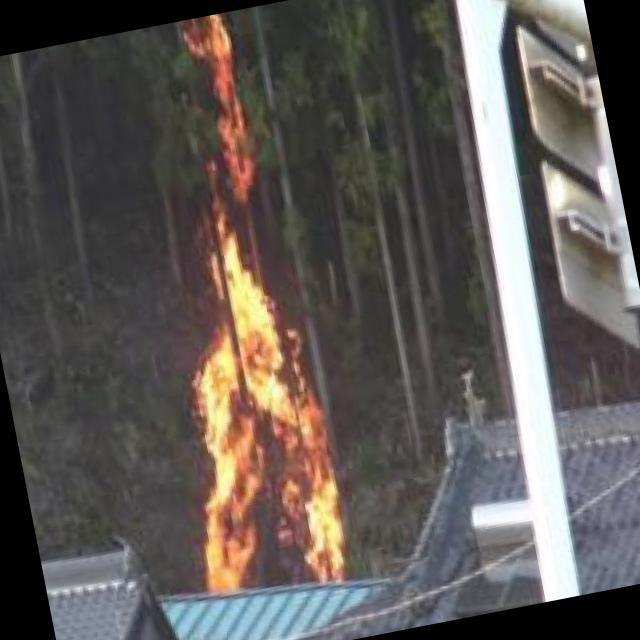Fire: (96, 9, 357, 598)
